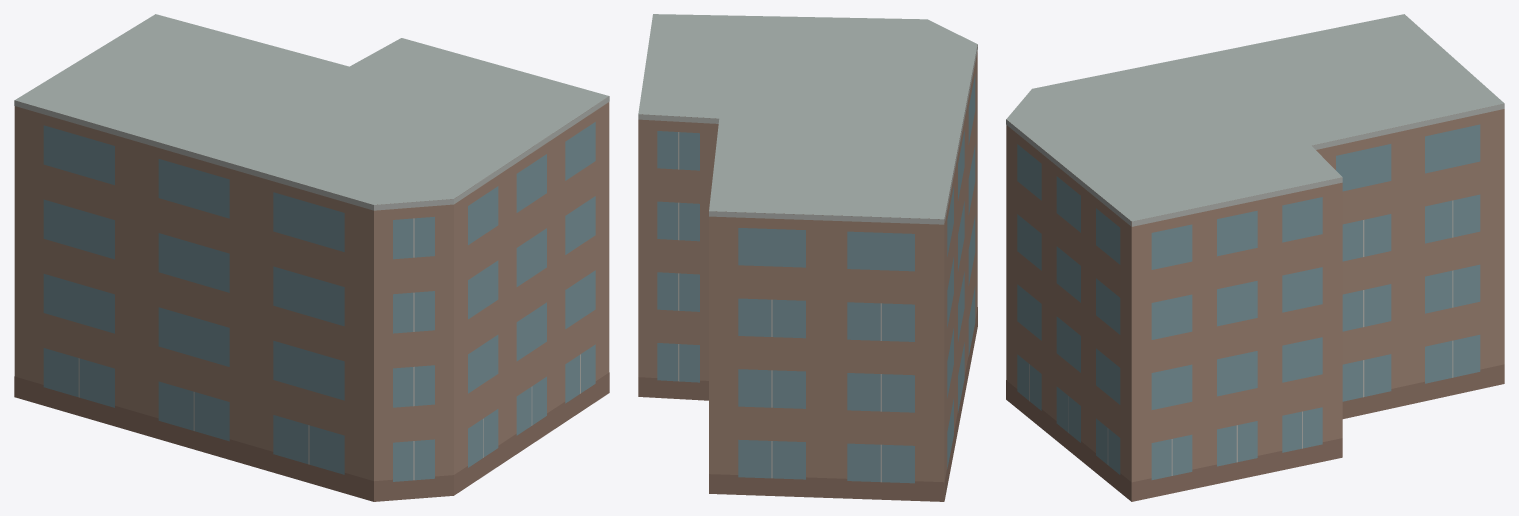
Rendered from survey-upis-32988532.glb.
3 renders of one model, left to right at view 1: azimuth 30°, elevation 25°; view 2: azimuth 150°, elevation 25°; view 3: azimuth 270°, elevation 25°, orthographic. The views are drawn at different scales.
Visible parts, largest first — view 1: survey-upis-32988532.tmp; view 2: survey-upis-32988532.tmp; view 3: survey-upis-32988532.tmp.
Boxes of the visible parts, x1,y1,x2,y2 form: survey-upis-32988532.tmp: [14, 14, 609, 501]; survey-upis-32988532.tmp: [638, 14, 977, 501]; survey-upis-32988532.tmp: [1006, 14, 1504, 501].
Size of the model in its own units: 20.34 by 12.8 by 20.64.
